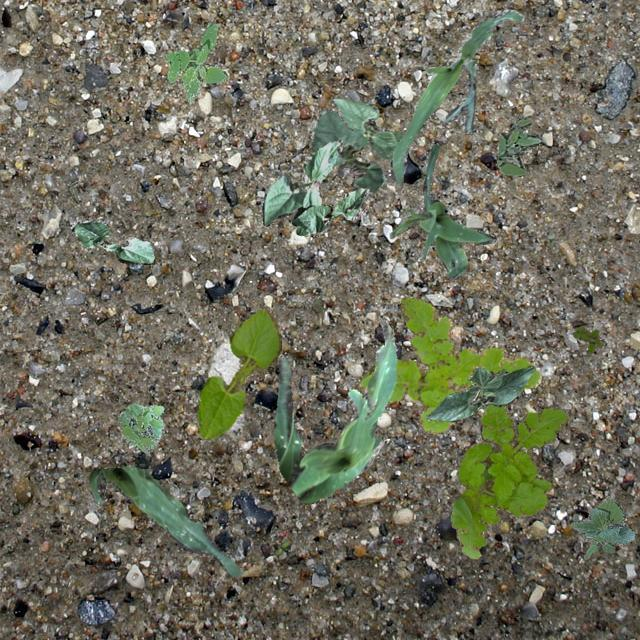crop: (392, 8, 524, 184), (272, 320, 396, 503), (87, 466, 240, 576), (388, 142, 494, 278), (197, 307, 280, 438), (262, 138, 342, 234), (424, 364, 534, 420), (310, 109, 384, 192), (330, 98, 404, 158), (570, 496, 636, 558), (68, 218, 154, 264), (291, 188, 368, 232)
weed: (358, 298, 540, 432), (449, 402, 568, 558), (165, 22, 228, 104), (496, 116, 540, 176), (116, 402, 164, 452), (572, 326, 602, 352)
